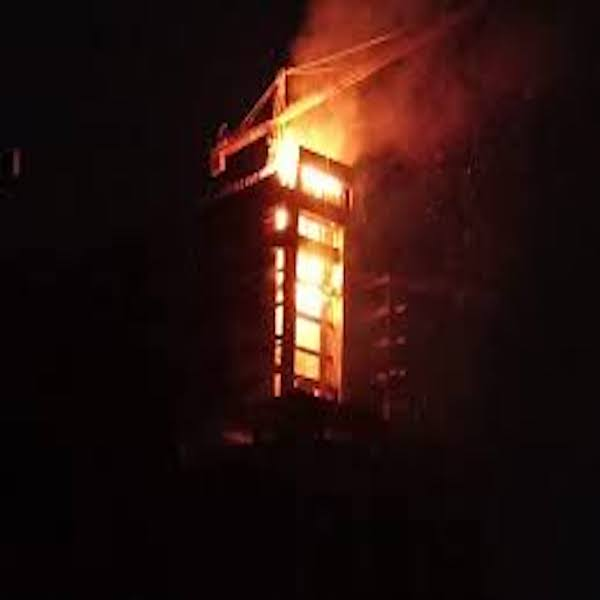fire: (267, 105, 352, 379)
